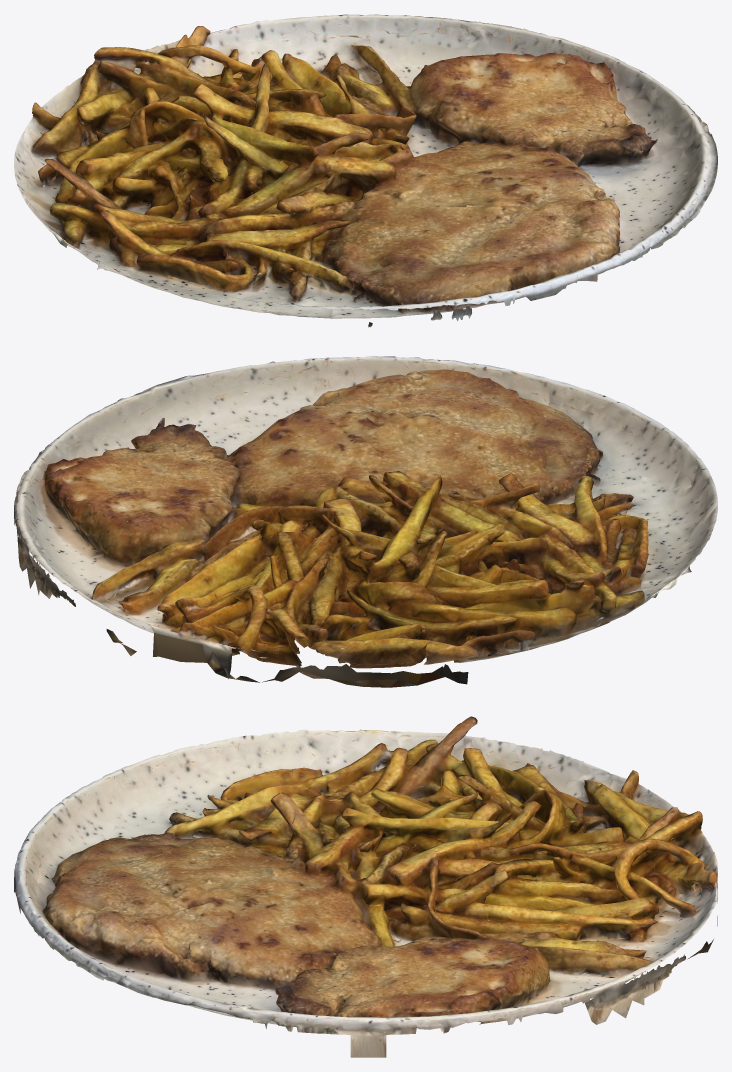
The model's file is milanesa.glb.
The picture shows the model from 3 angles, top to bottom: view 1: azimuth 30°, elevation 25°; view 2: azimuth 150°, elevation 25°; view 3: azimuth 270°, elevation 25°; orthographic projection.
Parts seen in each view (by area): view 1: Node; view 2: Node; view 3: Node.
Boxes of the visible parts, bbox=[...] form: Node: bbox=[14, 14, 717, 327]; Node: bbox=[14, 356, 717, 687]; Node: bbox=[14, 716, 717, 1057].
Size of the model in its own units: 0.4821 by 0.0711 by 0.4797.
1 material, 1 textured.
